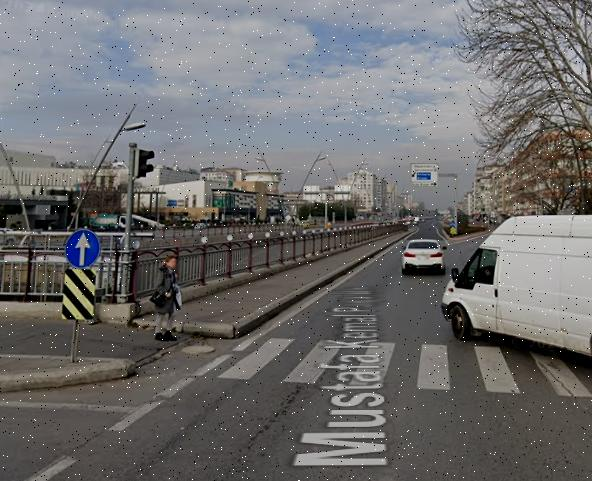forward: (64, 230, 103, 267)
